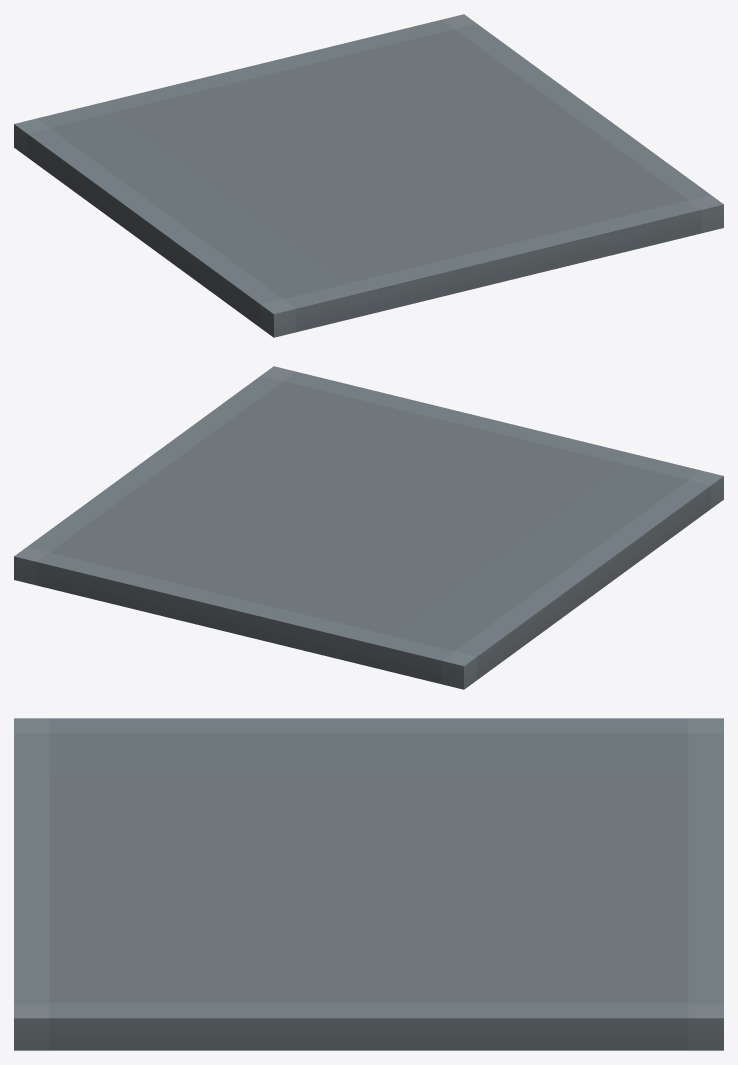
Rendered from city.glb.
The picture shows the model from 3 angles, top to bottom: view 1: azimuth 30°, elevation 25°; view 2: azimuth 150°, elevation 25°; view 3: azimuth 270°, elevation 25°; orthographic projection. The views are drawn at different scales.
Parts seen in each view (by area): view 1: base; view 2: base; view 3: base.
Part boxes in pixels (bbox=[...]): base: bbox=[14, 14, 723, 337]; base: bbox=[14, 366, 723, 689]; base: bbox=[14, 718, 723, 1050].
Size of the model in its own units: 2 by 0.1 by 2.
Materials: 1 (1 with a texture image).
